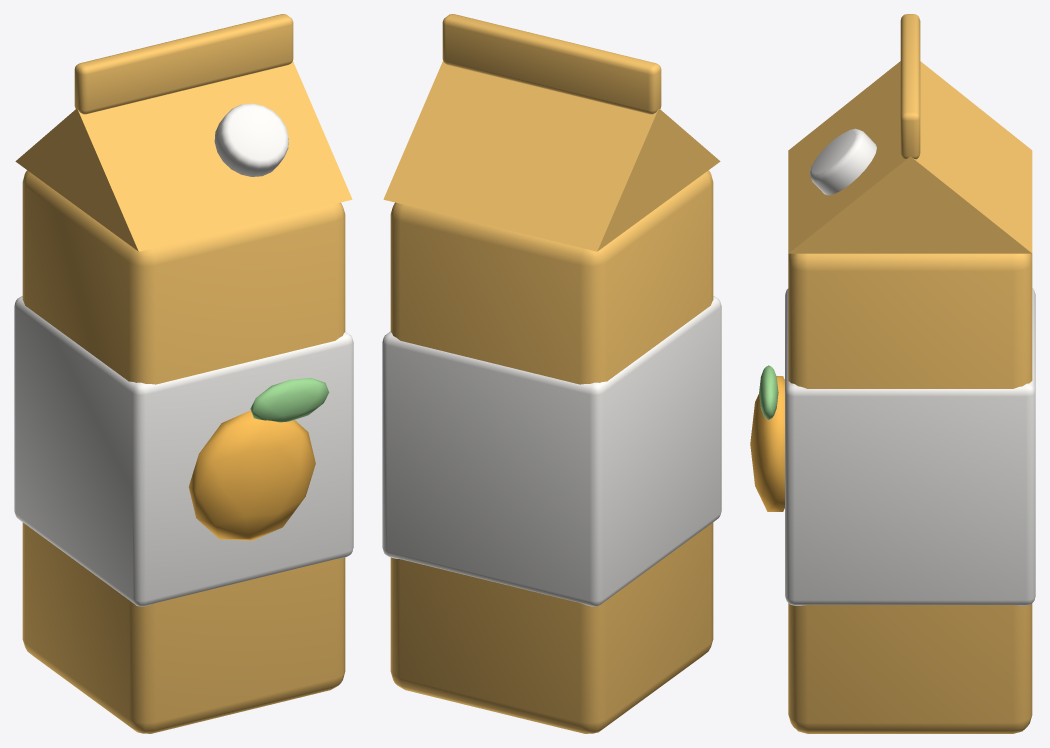
Rendered from sk_food_juice.fbx.
3 views of the same model, side by side, from view 1: azimuth 30°, elevation 25°; view 2: azimuth 150°, elevation 25°; view 3: azimuth 270°, elevation 25° (orthographic).
Visible parts, largest first — view 1: Carton_Body, Carton_Label, Carton_Gable, Label_Orange, Carton_Fin, Carton_Cap, Label_Leaf; view 2: Carton_Body, Carton_Label, Carton_Gable, Carton_Fin; view 3: Carton_Body, Carton_Label, Carton_Gable, Label_Orange, Carton_Fin, Carton_Cap, Label_Leaf.
Part boxes in pixels (<box>): Carton_Body: <box>22,170,345,733</box>; Carton_Label: <box>14,296,353,606</box>; Carton_Gable: <box>15,61,352,251</box>; Label_Orange: <box>189,410,315,540</box>; Carton_Fin: <box>74,14,293,114</box>; Carton_Cap: <box>214,103,288,176</box>; Label_Leaf: <box>250,377,329,422</box>; Carton_Body: <box>390,170,713,733</box>; Carton_Label: <box>382,296,721,606</box>; Carton_Gable: <box>383,61,720,251</box>; Carton_Fin: <box>442,14,661,114</box>; Carton_Body: <box>788,253,1032,733</box>; Carton_Label: <box>785,288,1035,605</box>; Carton_Gable: <box>788,61,1032,253</box>; Label_Orange: <box>750,376,784,511</box>; Carton_Fin: <box>900,14,920,159</box>; Carton_Cap: <box>809,128,876,195</box>; Label_Leaf: <box>759,365,778,419</box>.
Size of the model in its own units: 0.077 by 0.212 by 0.0877.
